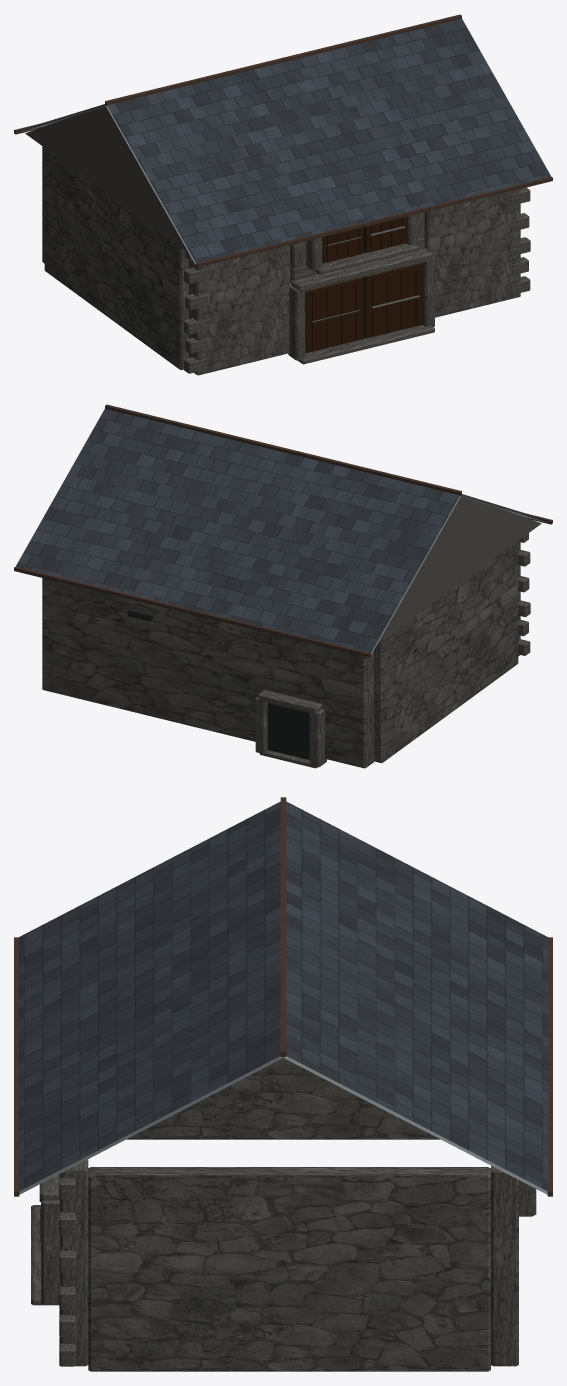
Rendered from barn_proportion_simple_slate_roof_reset.glb.
3 views of the same model, one above another, from view 1: azimuth 30°, elevation 25°; view 2: azimuth 150°, elevation 25°; view 3: azimuth 270°, elevation 25° (orthographic). The views are drawn at different scales.
Visible parts, largest first — view 1: V0345_House02_Derived_Barrosan_Barn_Proportion_Reset_Visual; view 2: V0345_House02_Derived_Barrosan_Barn_Proportion_Reset_Visual; view 3: V0345_House02_Derived_Barrosan_Barn_Proportion_Reset_Visual.
Boxes of the visible parts, box(x1,y1,x2,y2) form: V0345_House02_Derived_Barrosan_Barn_Proportion_Reset_Visual: box(14, 14, 552, 375); V0345_House02_Derived_Barrosan_Barn_Proportion_Reset_Visual: box(14, 404, 552, 768); V0345_House02_Derived_Barrosan_Barn_Proportion_Reset_Visual: box(14, 797, 552, 1371).
Size of the model in its own units: 12.46 by 7.69 by 11.16.
Materials: 7 (3 with a texture image).
